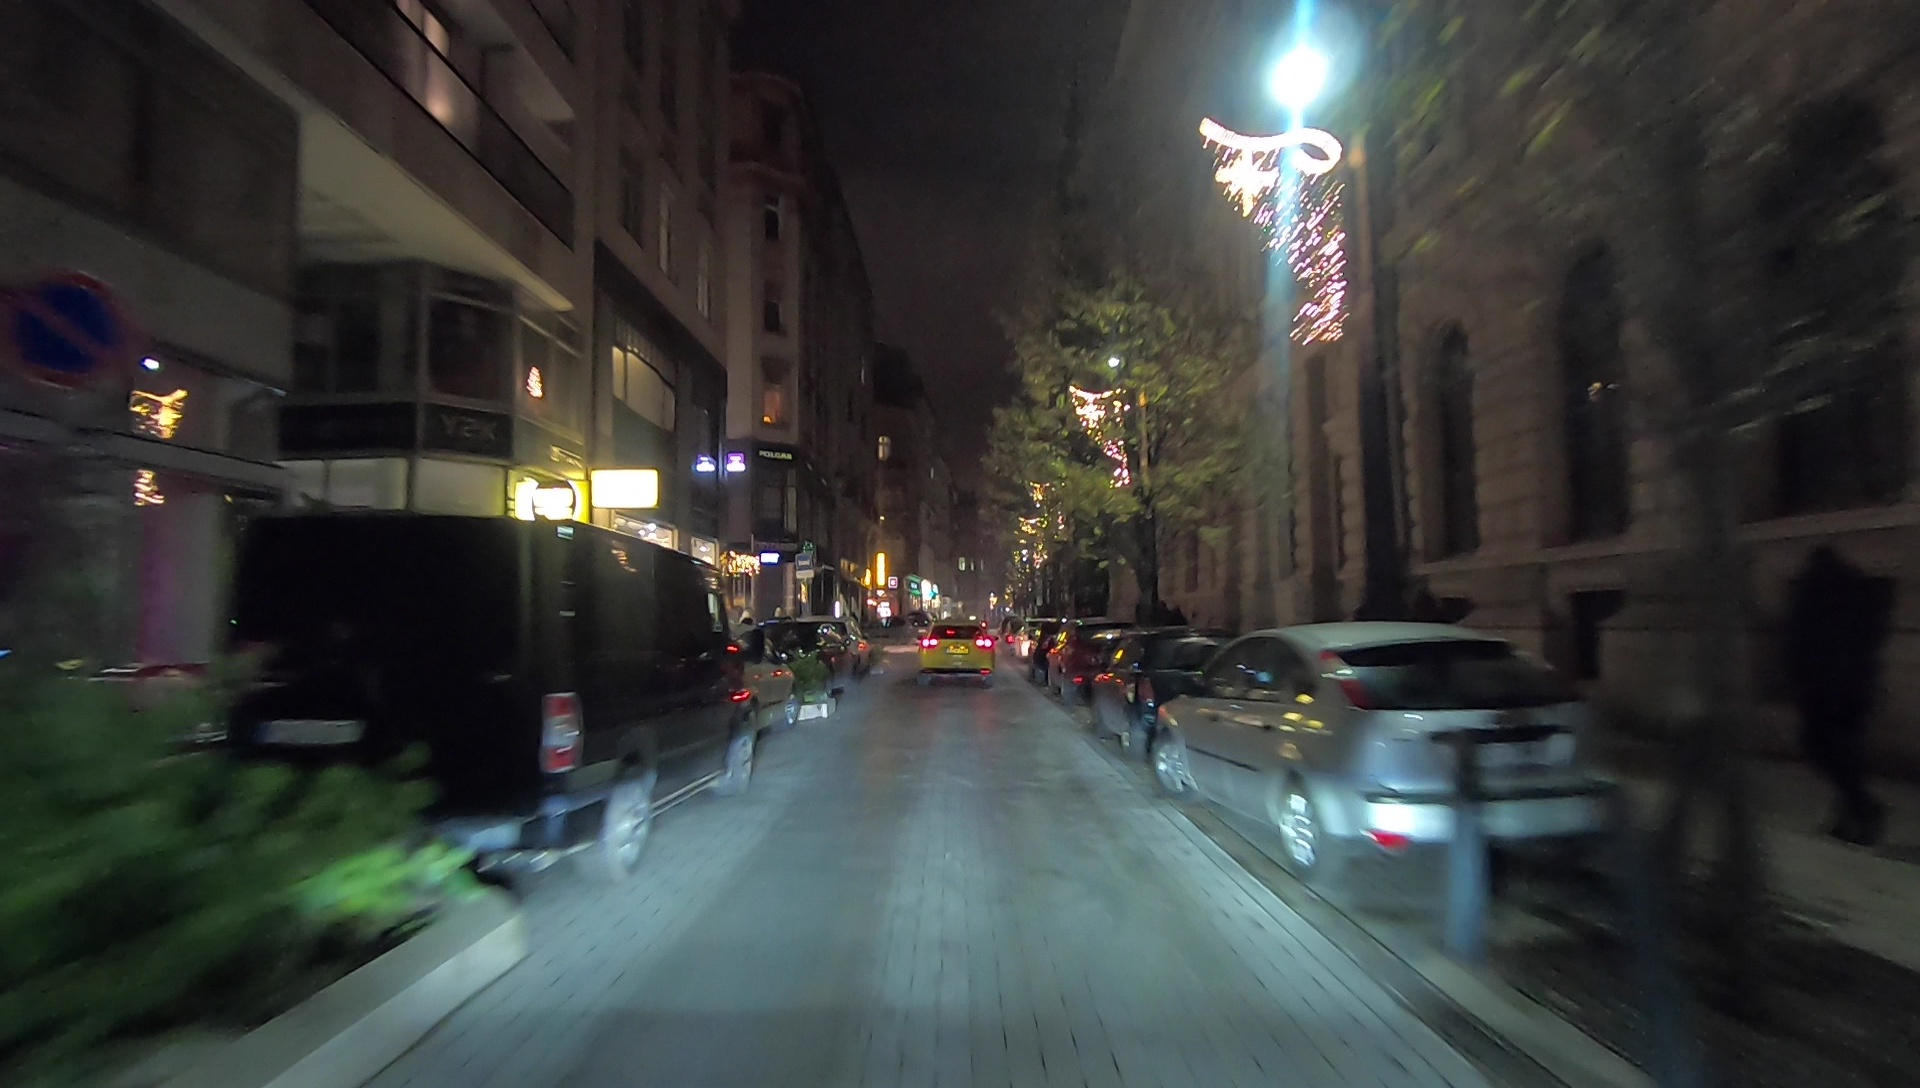person: (1776, 545, 1904, 858)
